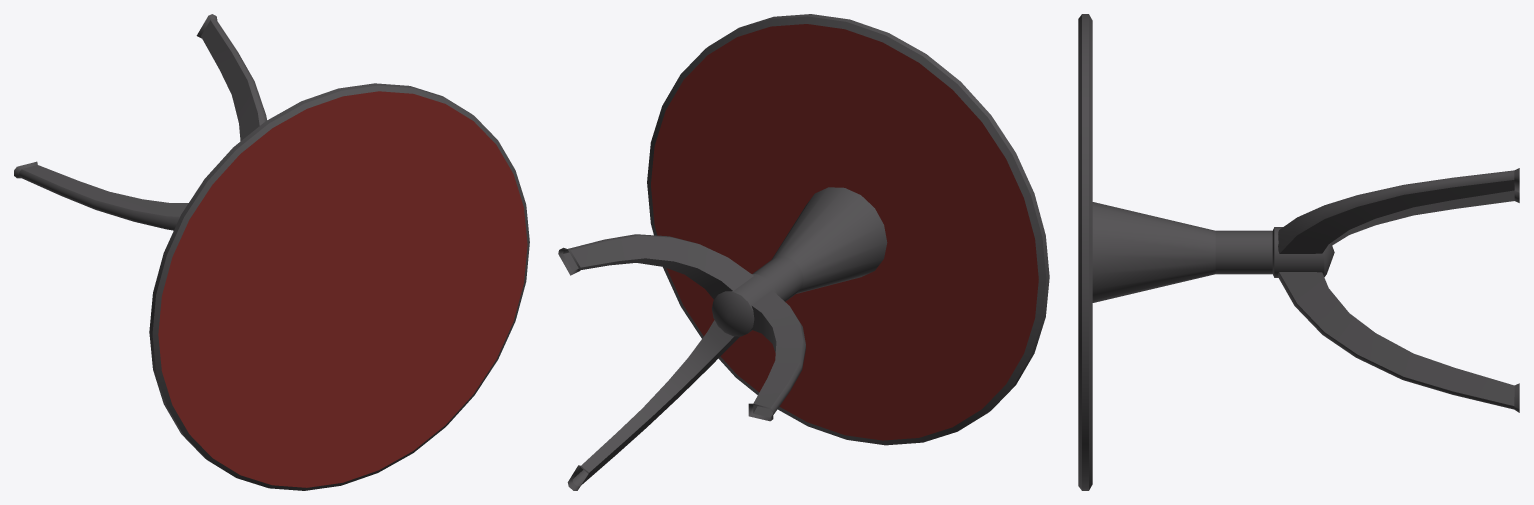
The model's file is nt_2020_table_01_LOD0.obj.
3 renders of one model, left to right at view 1: azimuth 30°, elevation 25°; view 2: azimuth 150°, elevation 25°; view 3: azimuth 270°, elevation 25°, orthographic. The views are drawn at different scales.
Parts seen in each view (by area): view 1: nt_2020_wall_red_foil, sub_polished_metal; view 2: nt_2020_wall_red_foil, sub_polished_metal; view 3: sub_polished_metal.
Part boxes in pixels (x1,y1,x2,y2): nt_2020_wall_red_foil: (158,91,527,487); sub_polished_metal: (14,14,529,490); nt_2020_wall_red_foil: (651,24,1038,440); sub_polished_metal: (558,14,1049,490); sub_polished_metal: (1078,14,1519,490).
Size of the model in its own units: 86.57 by 86.57 by 80.06.
2 materials, 2 textured.
